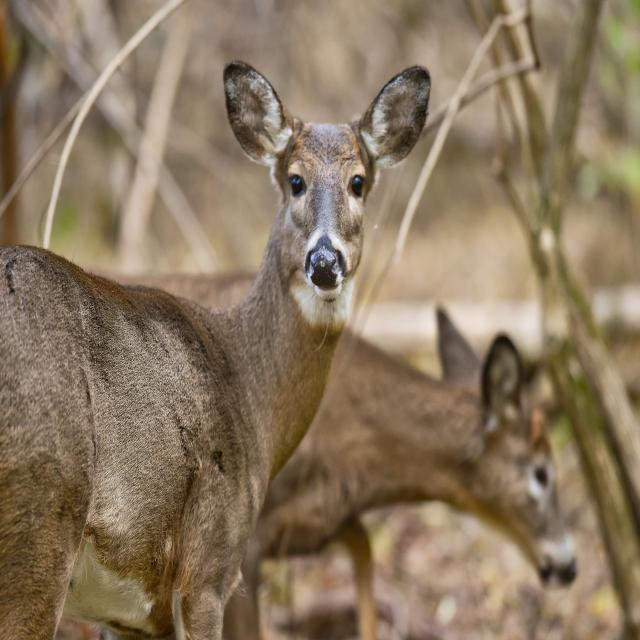Deer: (0, 55, 436, 640)
